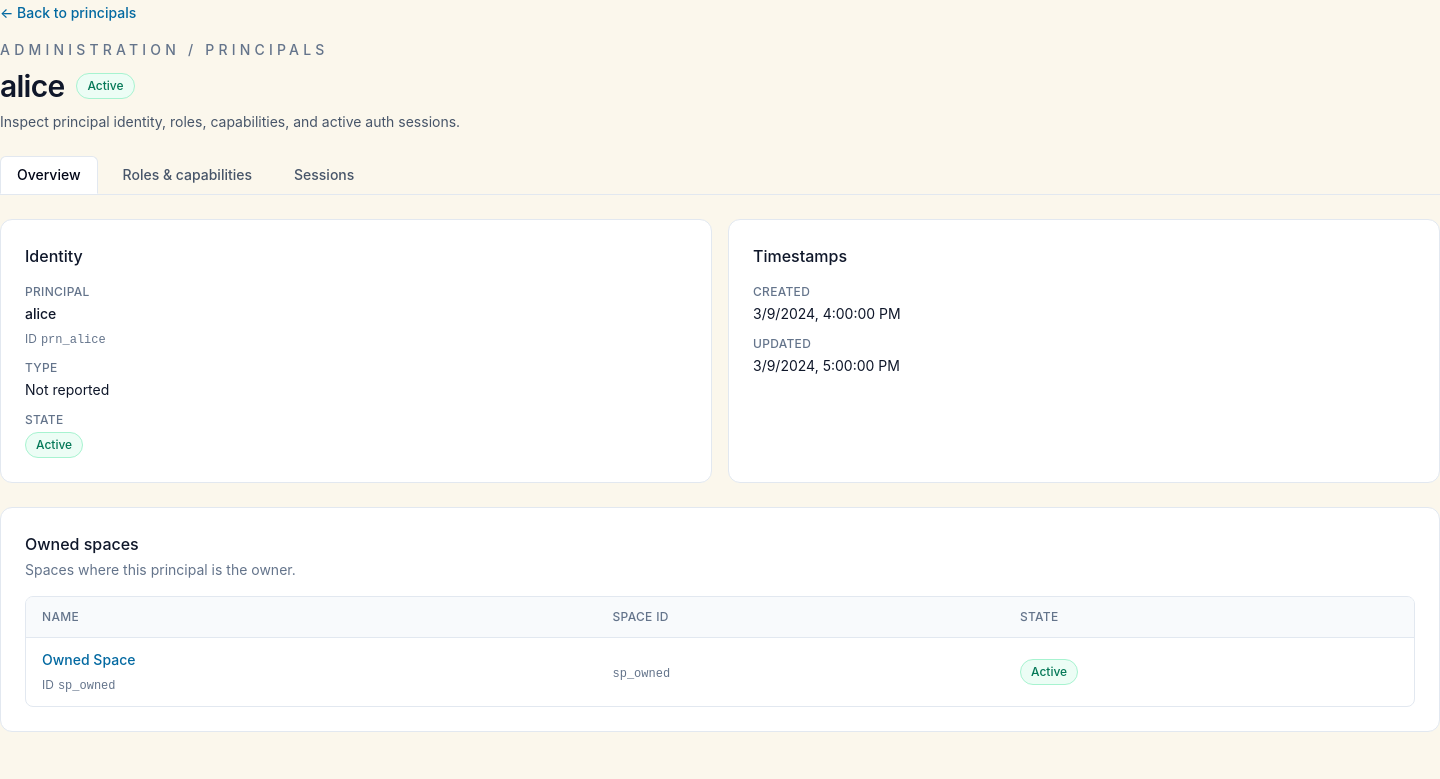
Test: hides old one-off grant controls and effective access token sections
Expected: the heading "alice" is shown, x1=0 y1=68 x2=64 y2=104
Click the tab "Roles & capabilities" at (187, 175), box x1=106 y1=156 x2=269 y2=194
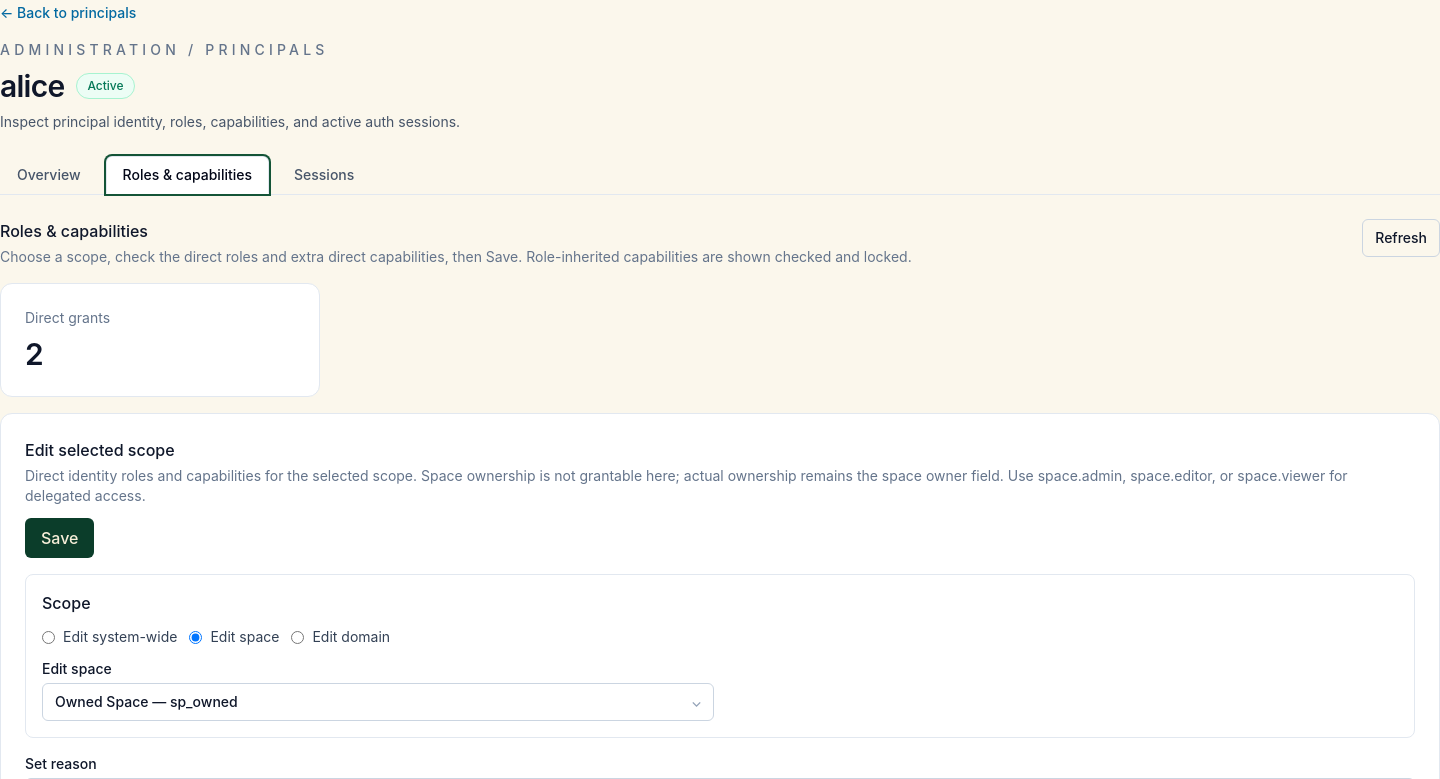
Expected: the button "Save" is shown, x1=25 y1=518 x2=94 y2=558
